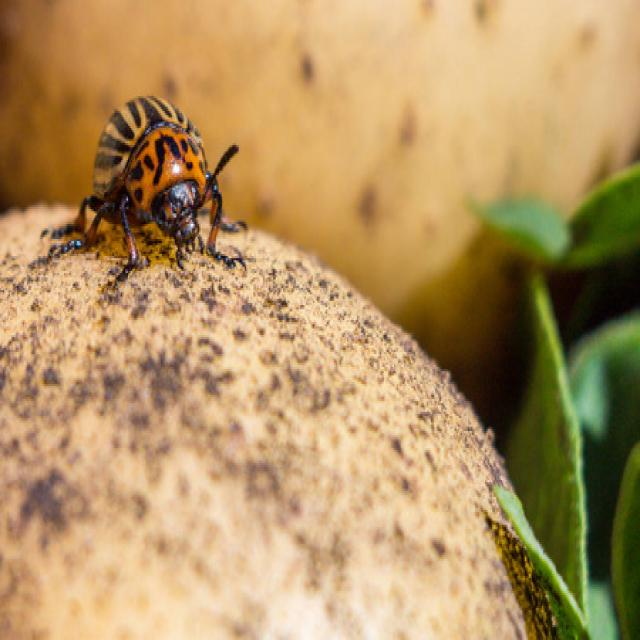ShuCaiHuaBanChong-Grown-: (76, 86, 245, 265)
